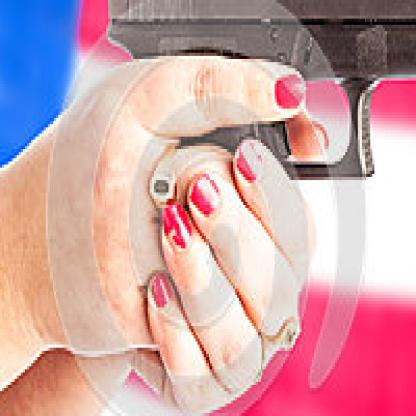gun: (93, 0, 415, 342)
